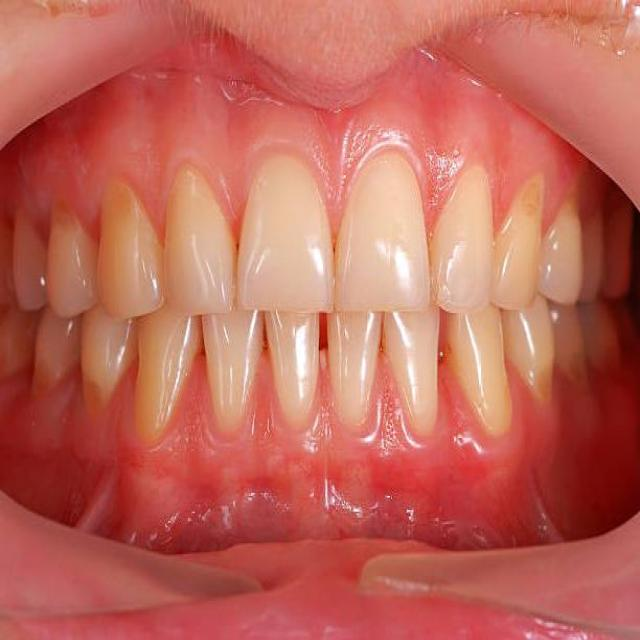caries: (510, 170, 550, 232), (76, 372, 114, 429), (530, 359, 566, 418)
